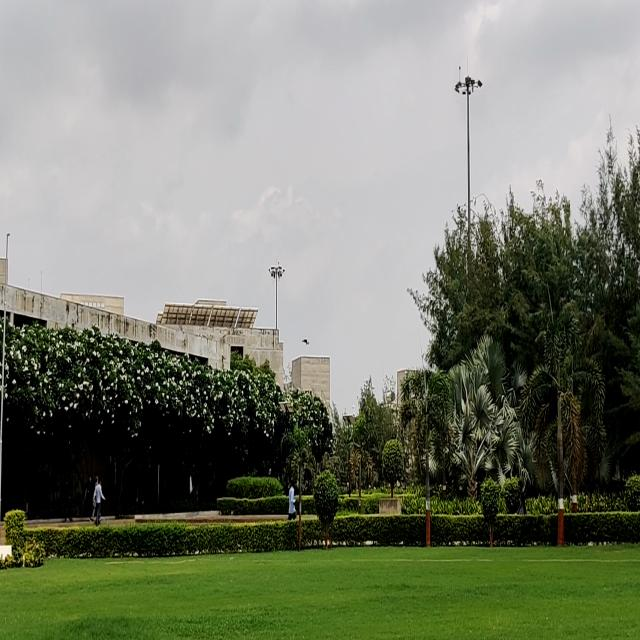drone: (300, 330, 311, 354)
